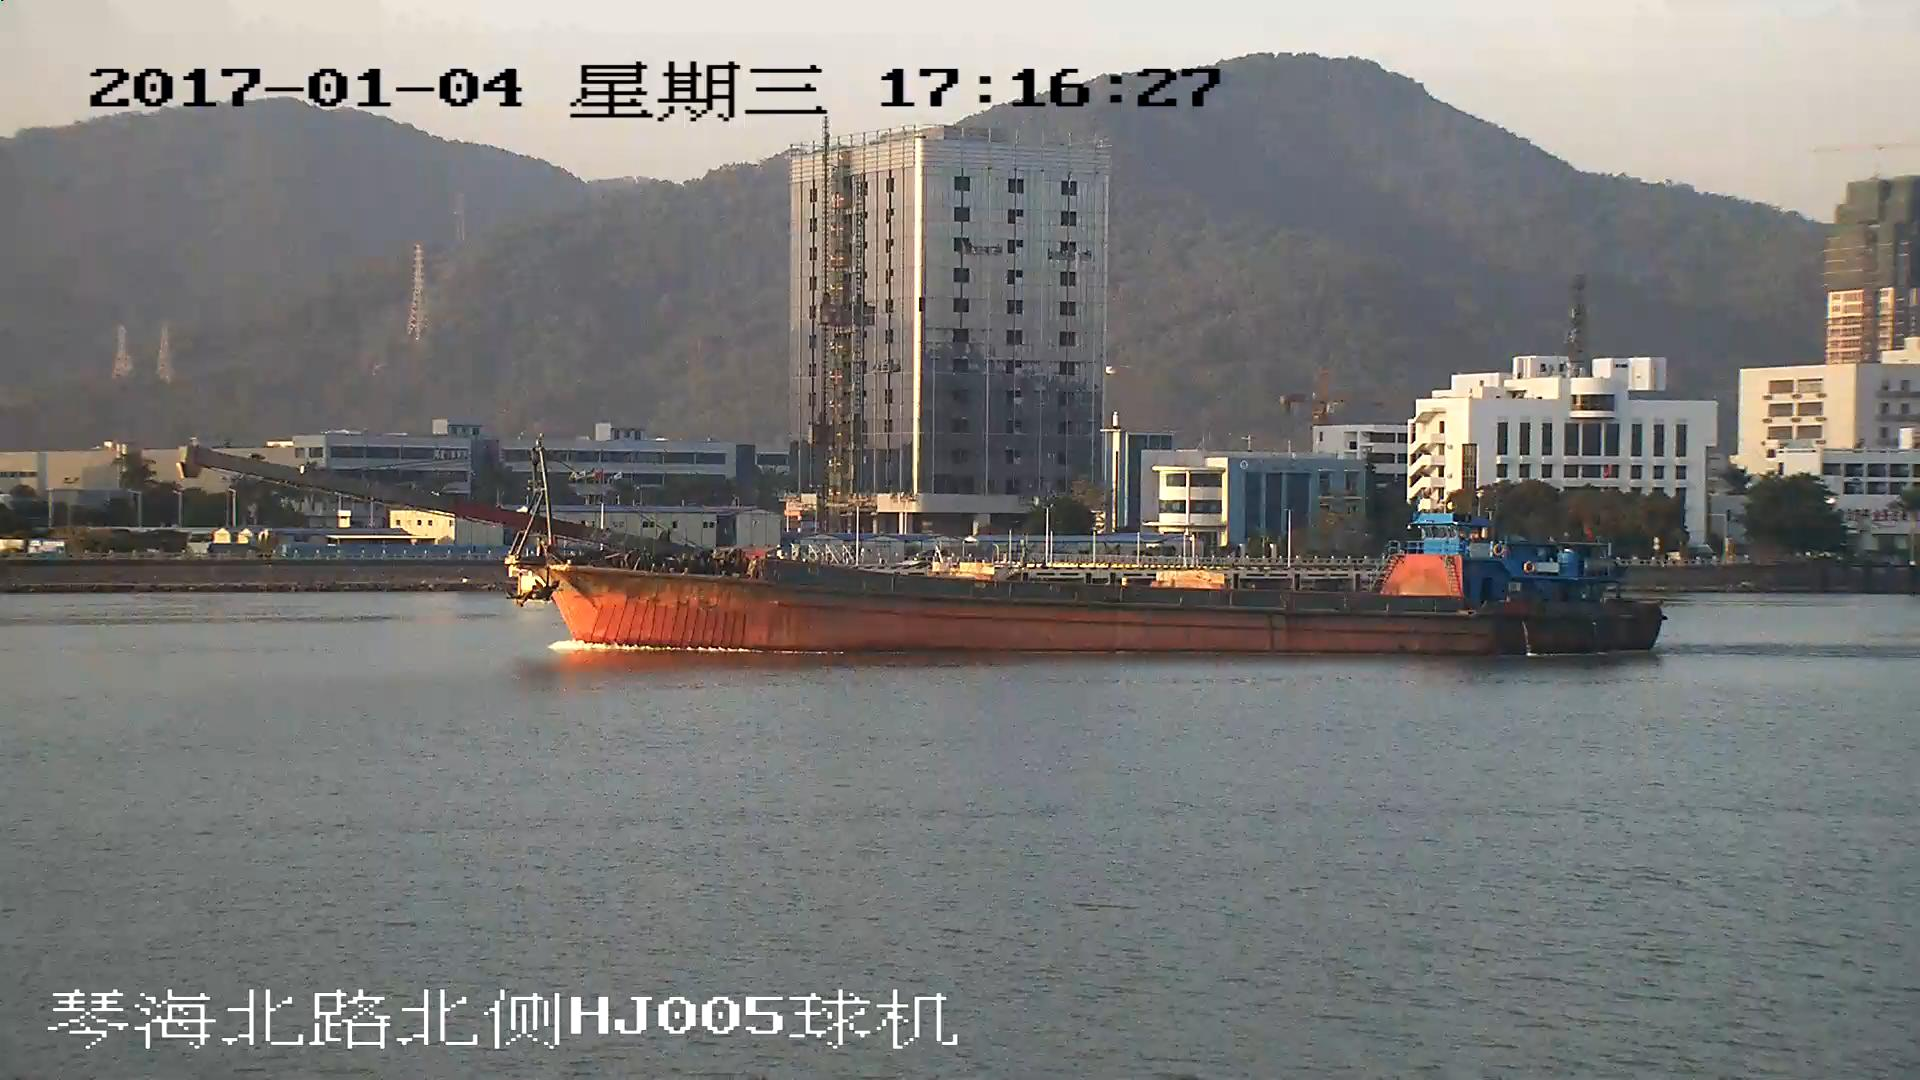bulk cargo carrier: (189, 448, 1659, 655)
